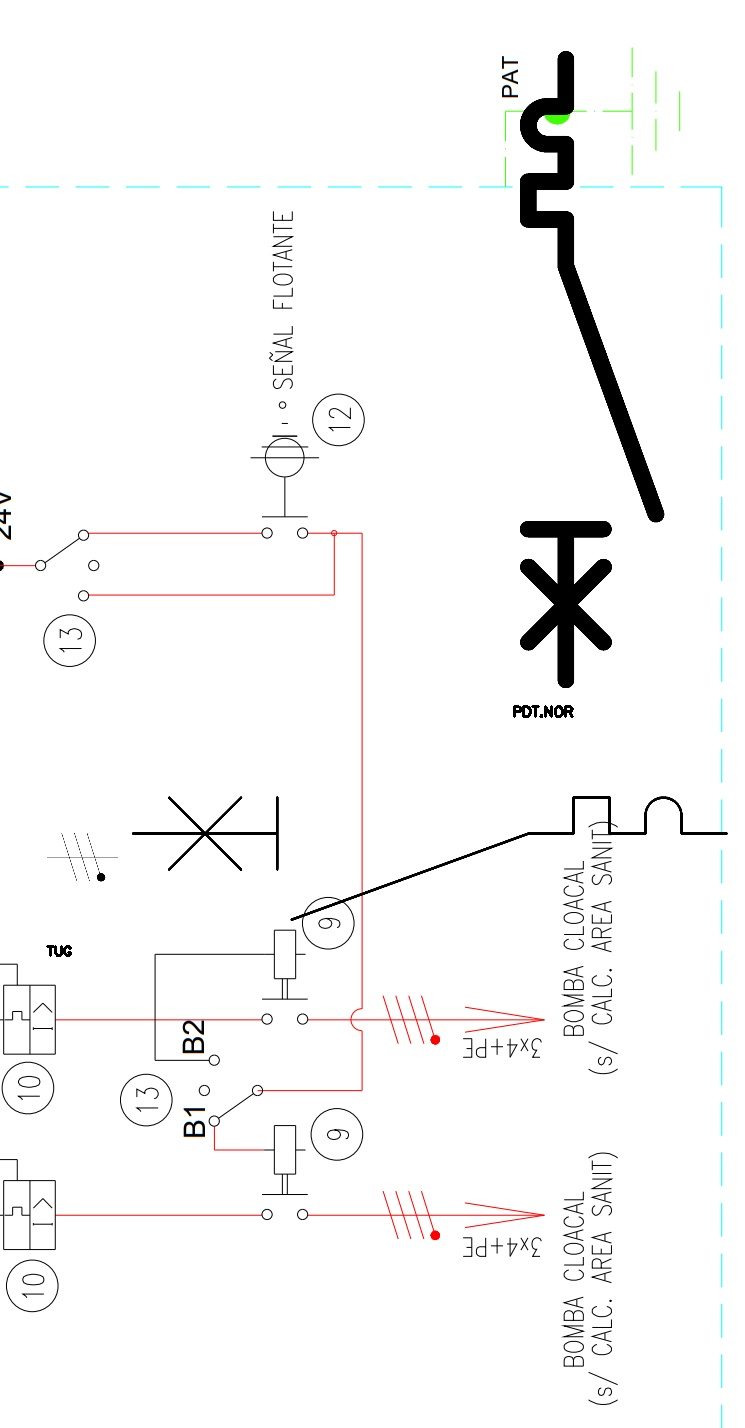interruptor_termomagnetico: (512, 43, 672, 696), (117, 782, 741, 935)
